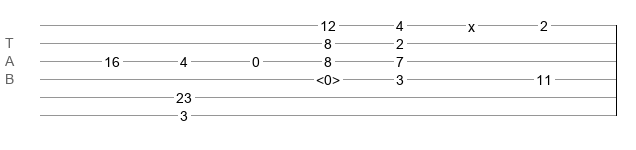0: (252, 54, 260, 64)
11: (536, 72, 552, 82)
12: (320, 18, 336, 28)
16: (104, 54, 120, 64)
2: (396, 36, 404, 46), (540, 18, 548, 28)
23: (176, 90, 192, 100)
3: (180, 108, 188, 118), (396, 72, 404, 82)
4: (180, 54, 188, 64), (396, 18, 404, 28)
7: (396, 54, 404, 64)
8: (324, 54, 332, 64), (324, 36, 332, 46)
harmonic: (316, 72, 340, 82)
x: (468, 19, 475, 27)
